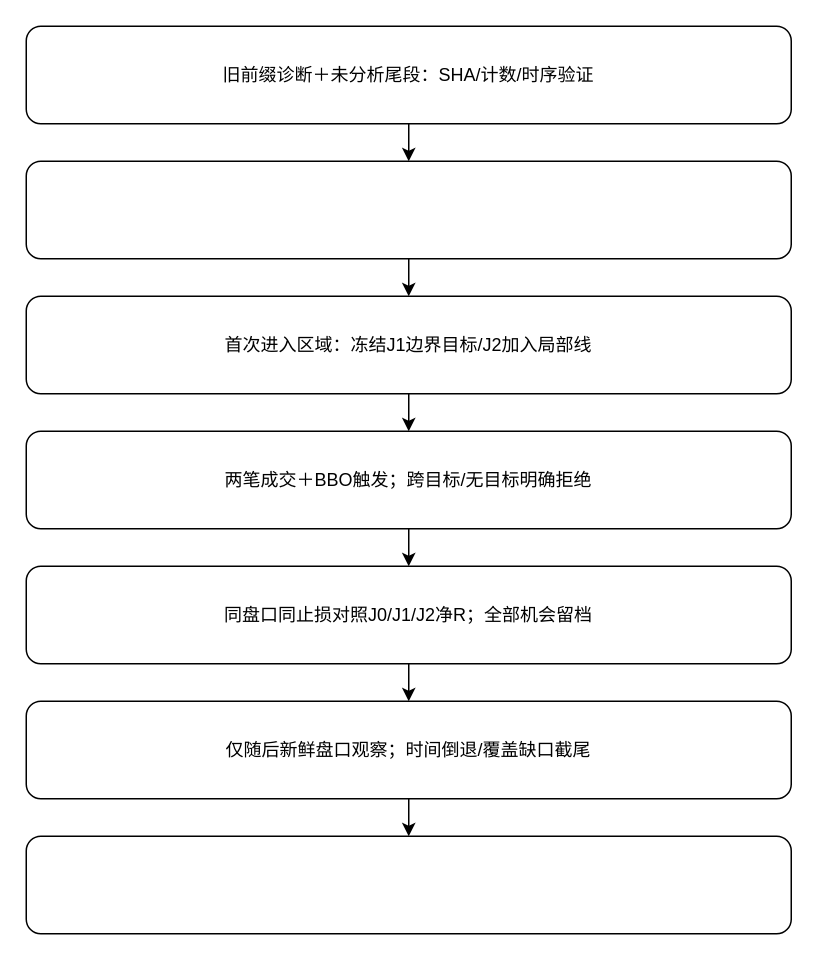
Some shapes in this 818 by 960 pixel diagram are drawn without their labels. The centre of each missing label's shape, as x and y in pixels:
132测试＋完全复现；研究结论；不部署: [408,884]
复用原A/M/T触发器；不改触发或1.25ATR止损: [408,209]
